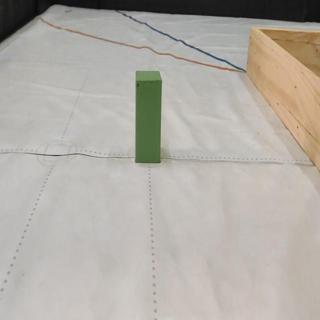greenbox: (135, 69, 162, 163)
